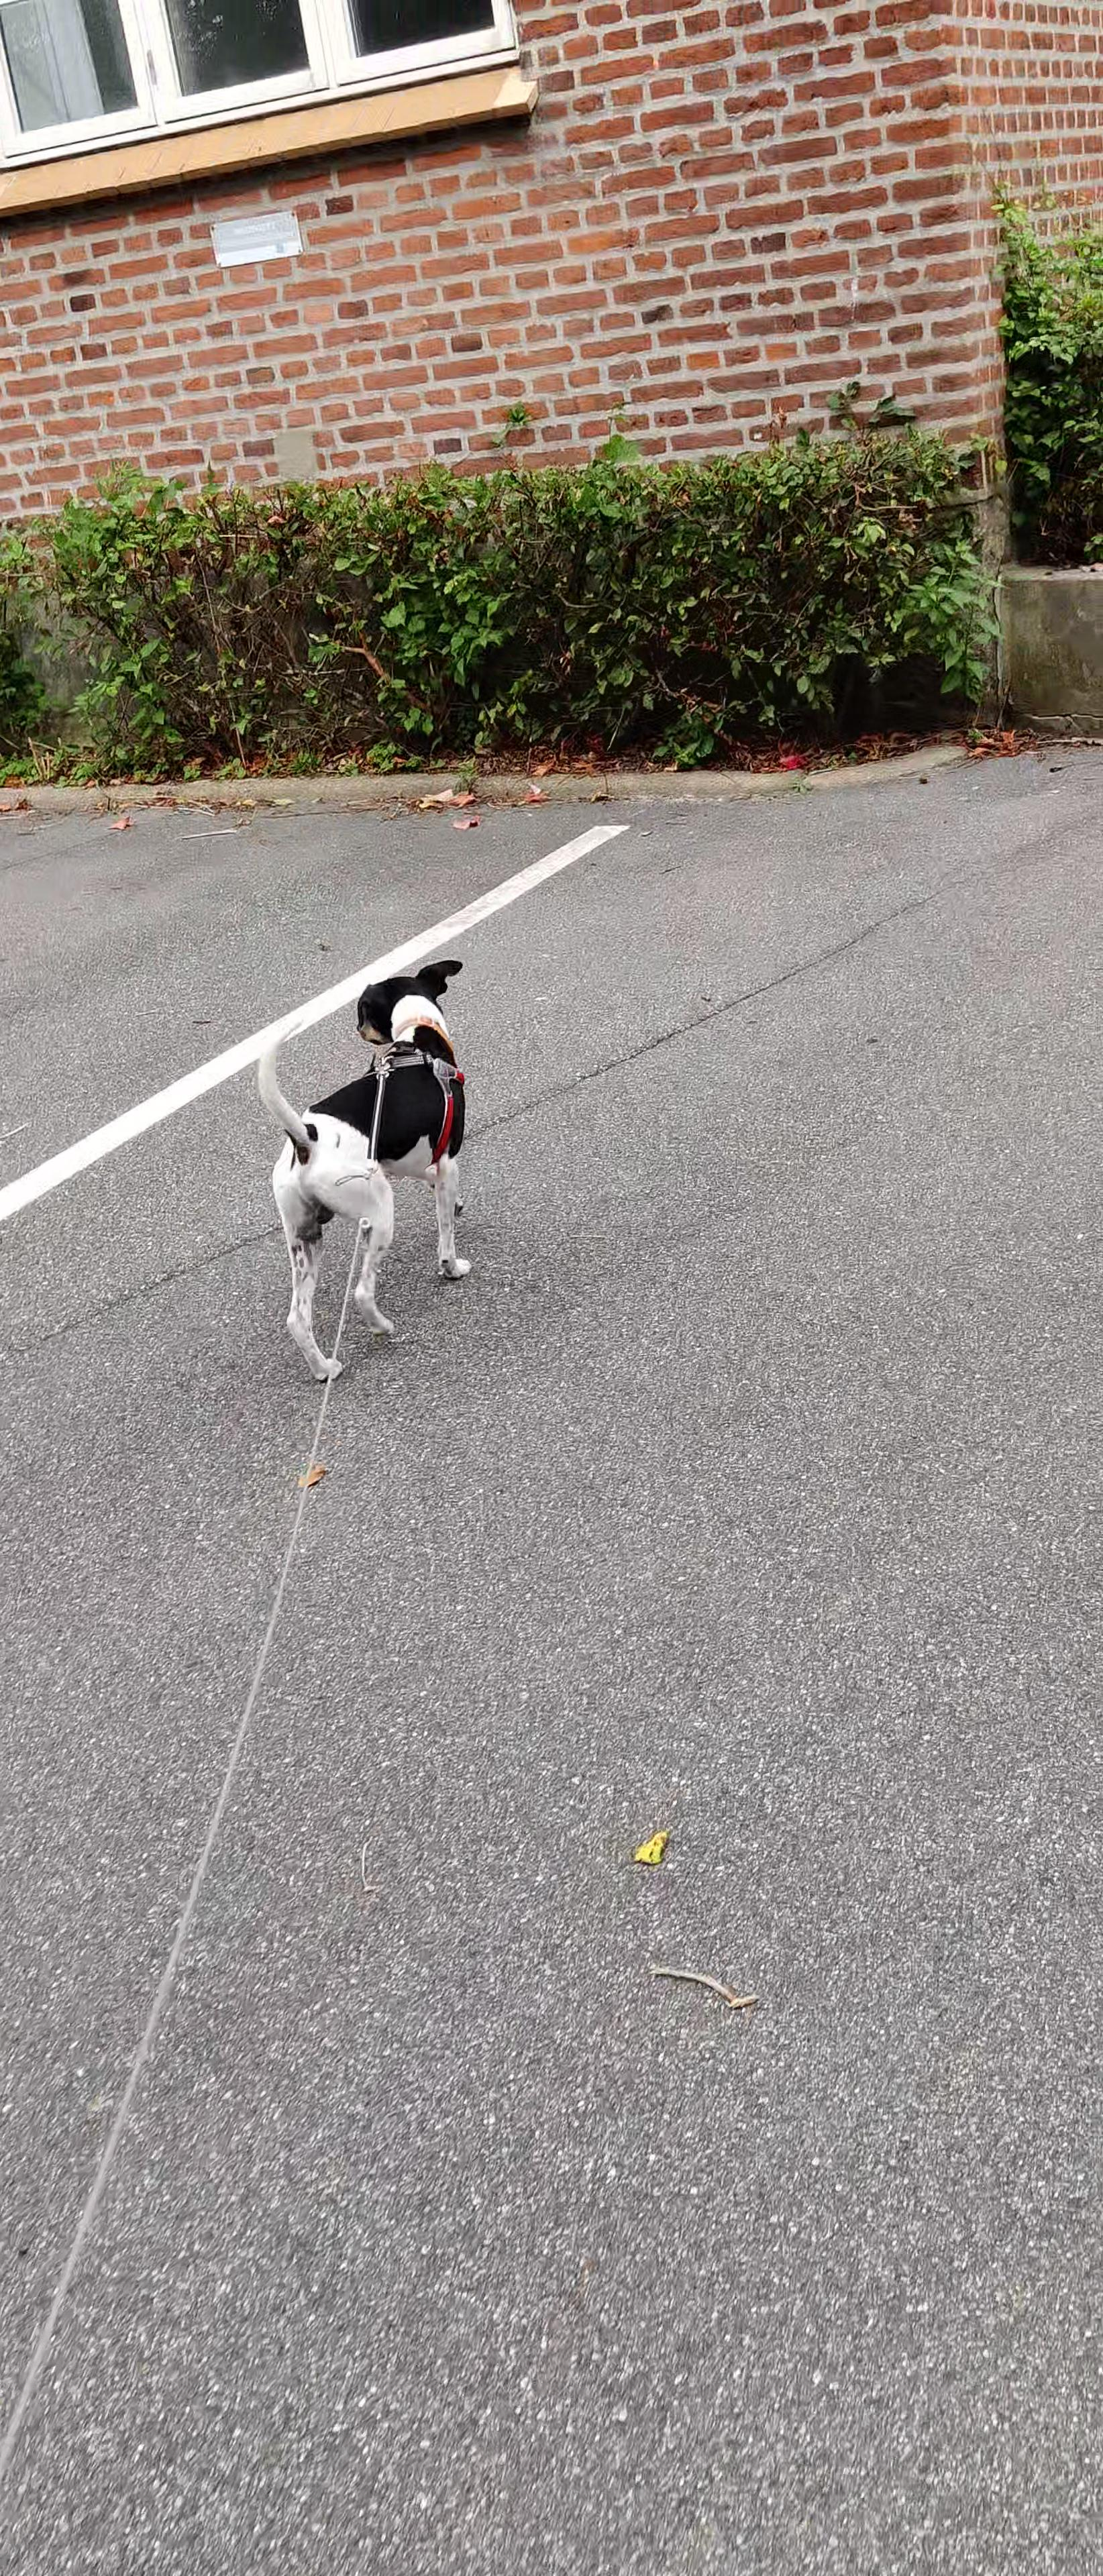Dog: (250, 951, 487, 1388)
